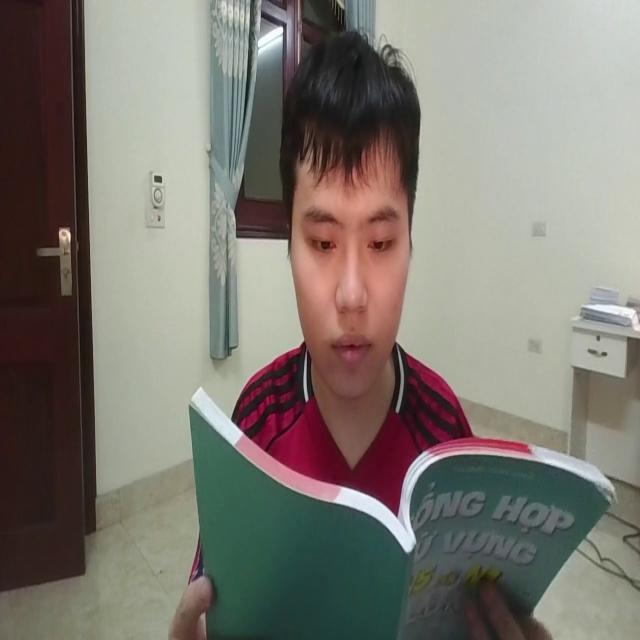book: (187, 379, 618, 640)
student: (161, 19, 547, 640)
